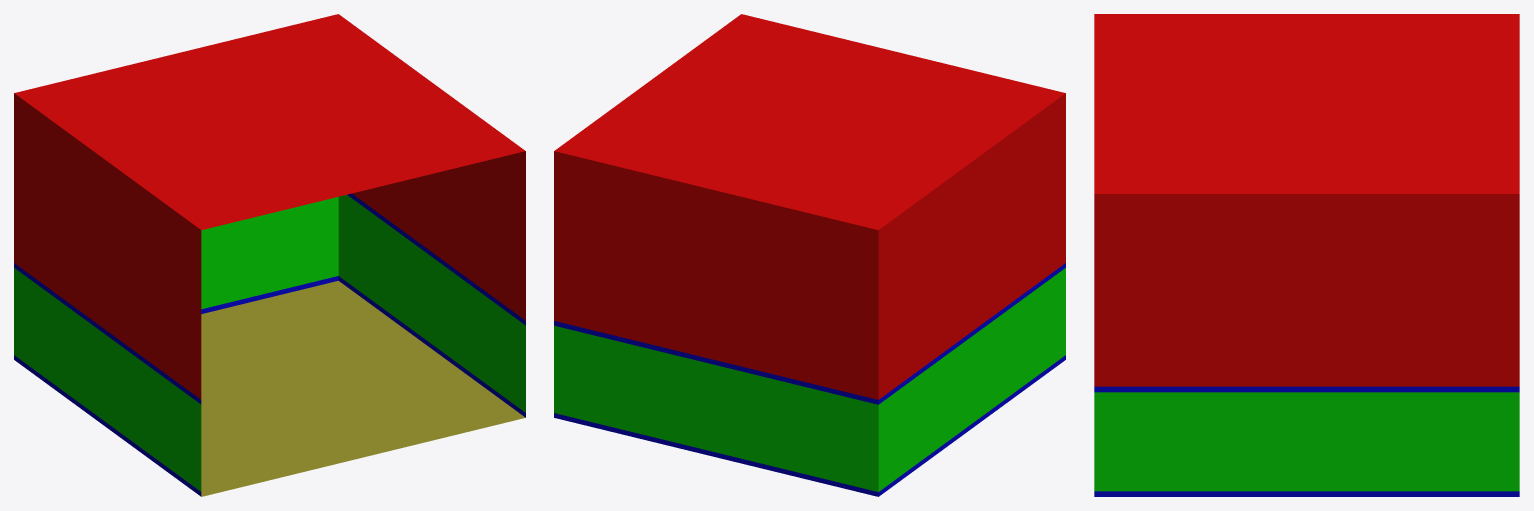
Rendered from SM_Room4x4.fbx.
3 renders of one model, left to right at view 1: azimuth 30°, elevation 25°; view 2: azimuth 150°, elevation 25°; view 3: azimuth 270°, elevation 25°, orthographic. The views are drawn at different scales.
Parts seen in each view (by area): view 1: SM_Room4x4; view 2: SM_Room4x4; view 3: SM_Room4x4.
Boxes of the visible parts, x1,y1,x2,y2 form: SM_Room4x4: (14,14,525,496); SM_Room4x4: (554,14,1065,496); SM_Room4x4: (1094,14,1519,496).
Size of the model in its own units: 350 by 275 by 350.
